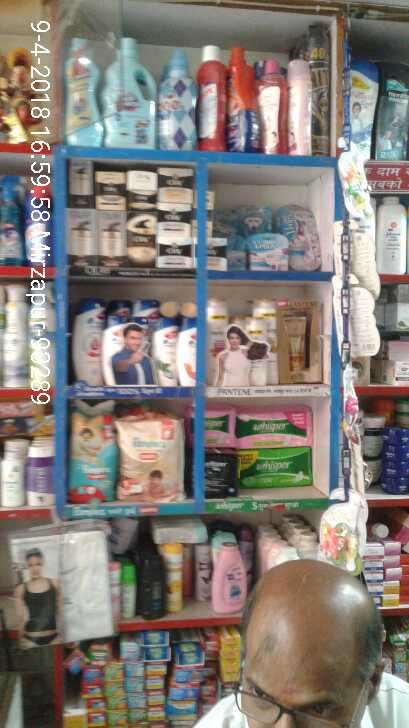venus: (290, 206, 317, 270), (250, 233, 289, 270), (238, 202, 268, 230)
